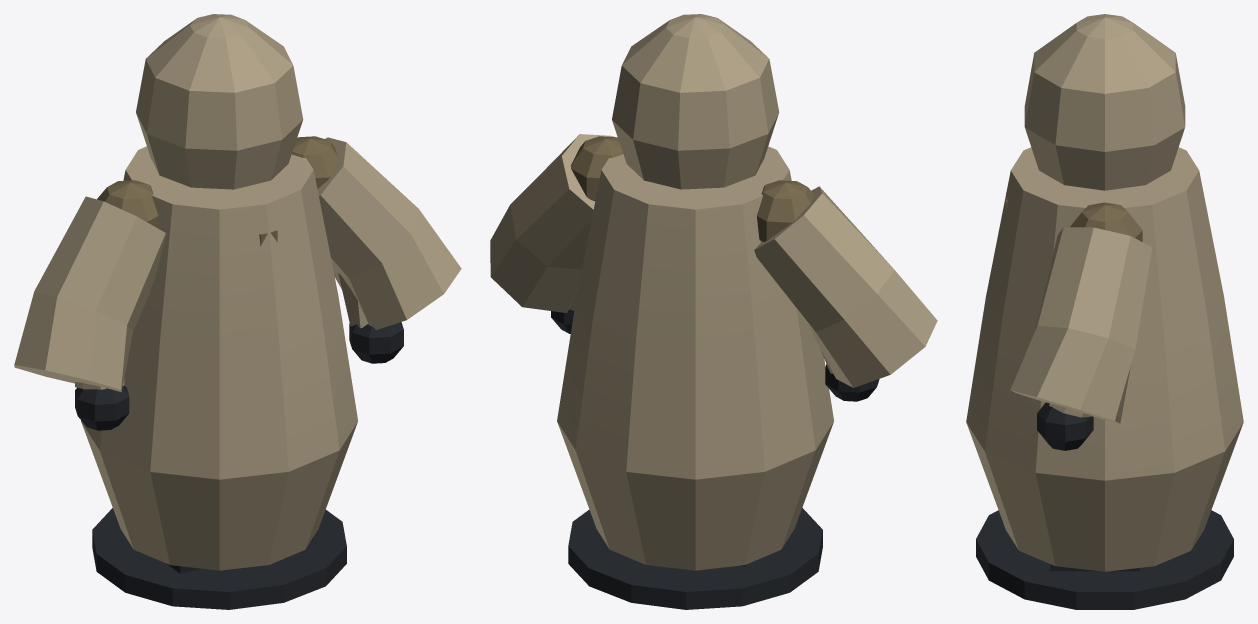
The model's file is jedi-padawan-robe.glb.
The picture shows the model from 3 angles, left to right: view 1: azimuth 30°, elevation 25°; view 2: azimuth 150°, elevation 25°; view 3: azimuth 270°, elevation 25°; orthographic projection.
Parts seen in each view (by area): view 1: m; view 2: m; view 3: m.
Part boxes in pixels (x1,y1,x2,y2): m: [14, 14, 461, 609]; m: [490, 14, 937, 609]; m: [966, 14, 1243, 609].
Size of the model in its own units: 0.4737 by 0.56 by 0.2613.
